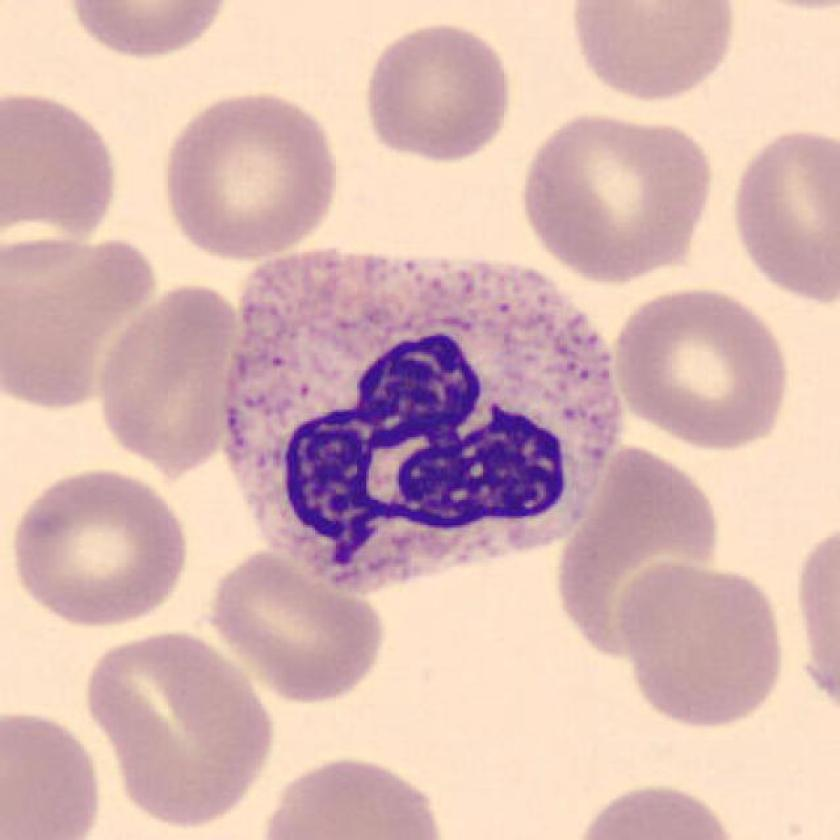neutrophil: (224, 250, 622, 597)
